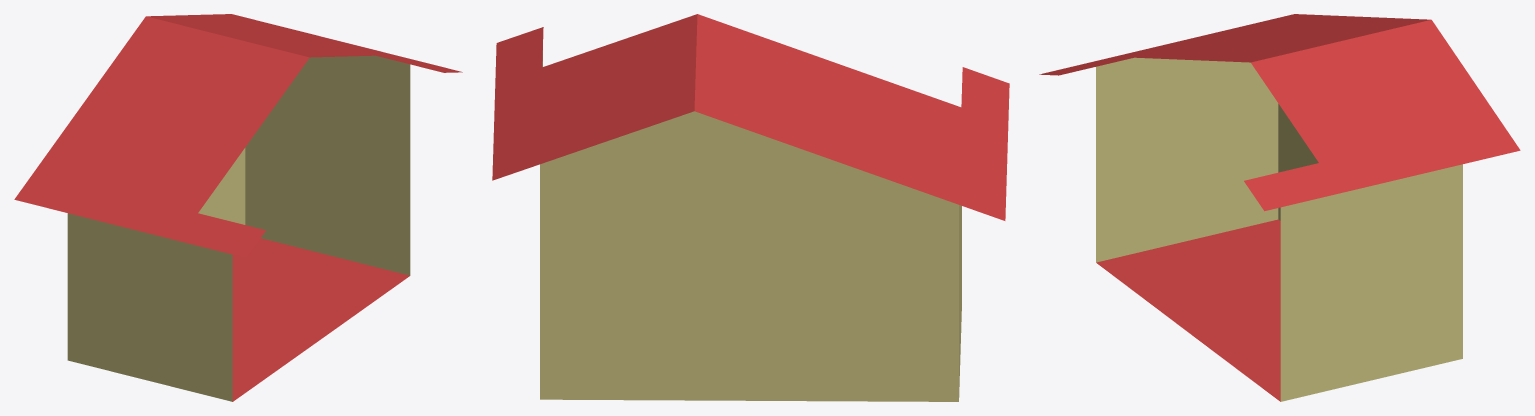
3 renders of one model, left to right at view 1: azimuth 30°, elevation 25°; view 2: azimuth 150°, elevation 25°; view 3: azimuth 270°, elevation 25°, orthographic. The views are drawn at different scales.
Bounding box in the file's own units: 12.92 × 11.39 × 7.26.
